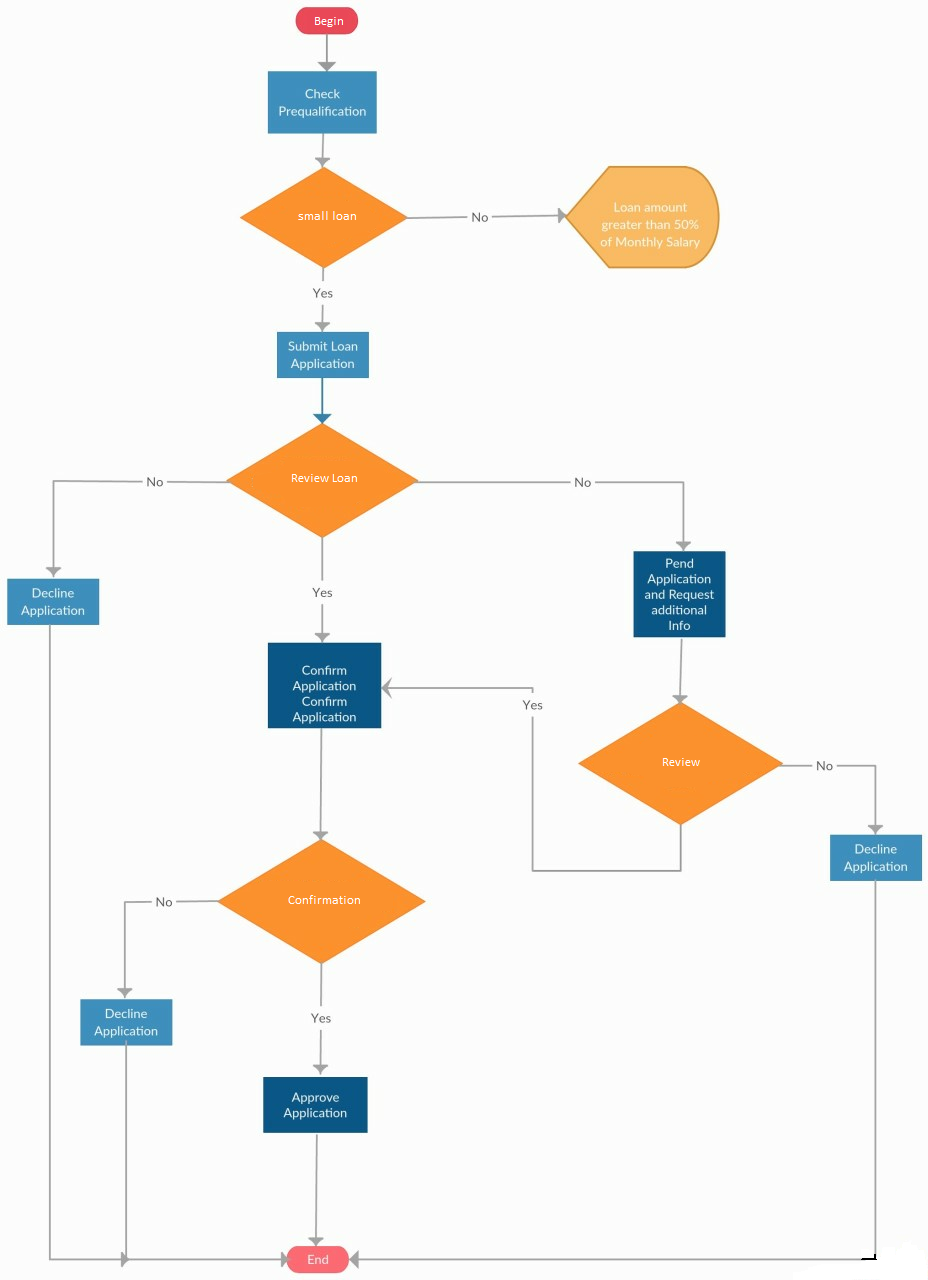arrow: (347, 874, 882, 1266), (380, 674, 686, 878), (43, 623, 131, 1265), (125, 1045, 296, 1267), (413, 475, 694, 551), (43, 473, 227, 576), (111, 894, 219, 996), (790, 761, 884, 831), (409, 209, 568, 226), (309, 733, 333, 841), (311, 959, 333, 1074), (311, 541, 335, 641), (305, 1131, 323, 1245), (311, 265, 333, 330), (672, 641, 692, 704), (315, 377, 331, 426), (319, 34, 335, 67), (313, 134, 329, 165)
decision: (574, 702, 786, 823), (215, 845, 423, 961), (227, 420, 425, 541), (243, 165, 411, 264)
process: (564, 160, 723, 273), (264, 643, 384, 733), (629, 549, 725, 639), (262, 67, 380, 136), (260, 1076, 372, 1137), (3, 574, 101, 629), (76, 996, 176, 1047), (827, 831, 925, 883), (272, 330, 370, 381)
terminator: (288, 5, 362, 38), (281, 1247, 352, 1274)
text: (641, 551, 719, 633), (594, 195, 705, 252), (288, 659, 366, 723), (276, 81, 372, 128), (13, 582, 92, 623), (280, 338, 362, 373), (274, 1090, 356, 1125), (90, 1006, 170, 1039), (839, 843, 917, 874), (278, 890, 368, 915), (651, 753, 709, 776), (307, 6, 354, 32), (292, 471, 364, 487), (298, 207, 356, 226), (137, 469, 176, 491), (300, 1012, 341, 1031), (513, 696, 552, 715), (301, 285, 341, 303), (149, 892, 178, 915), (568, 475, 598, 493), (807, 759, 837, 776), (466, 207, 490, 226), (311, 590, 339, 604), (301, 1255, 335, 1266)
